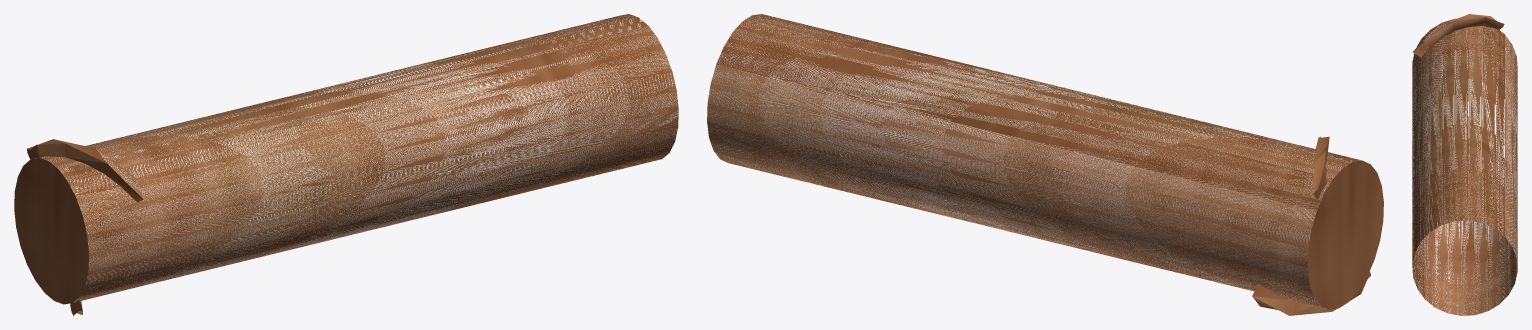
Rendered from original-272.obj.
The picture shows the model from 3 angles, left to right: view 1: azimuth 30°, elevation 25°; view 2: azimuth 150°, elevation 25°; view 3: azimuth 270°, elevation 25°; orthographic projection. The views are drawn at different scales.
Parts seen in each view (by area): view 1: mesh141/mesh141-geometry#mesh141-geometry; view 2: mesh141/mesh141-geometry#mesh141-geometry; view 3: mesh141/mesh141-geometry#mesh141-geometry.
Part boxes in pixels (x1,y1,x2,y2): mesh141/mesh141-geometry#mesh141-geometry: (14,14,678,315); mesh141/mesh141-geometry#mesh141-geometry: (707,14,1383,315); mesh141/mesh141-geometry#mesh141-geometry: (1412,14,1517,315).
Bounding box in the file's own units: 0.0356 × 0.00941 × 0.00783.
